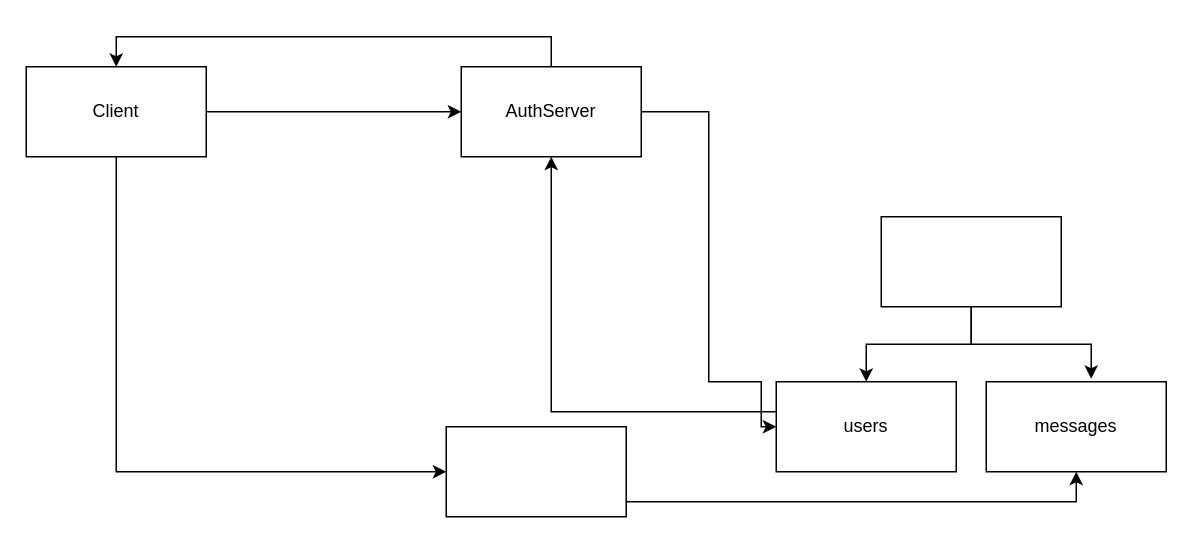
Image size: 1193x543. Some labels were removed from this diagram. The shapes that lost their labels are listed below. From the top down, each one's centre as x and y in pixels, then its label:
At (970,261): "Database".
At (535,471): "Server".
